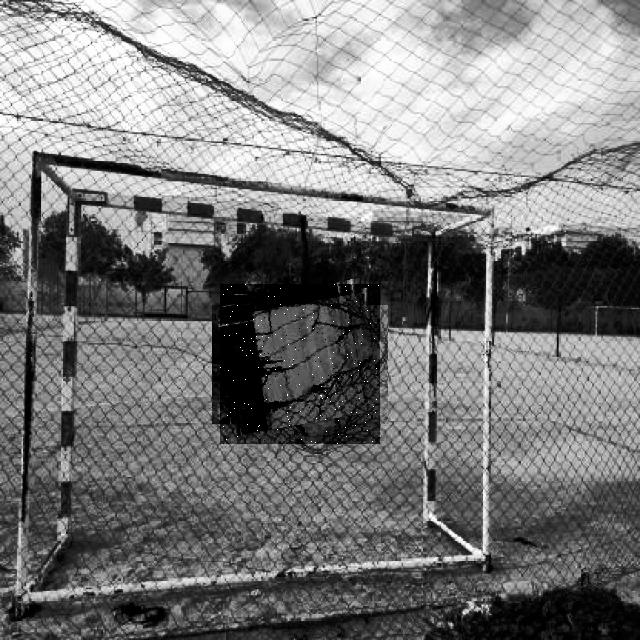anomaly-fence: (220, 284, 380, 444)
